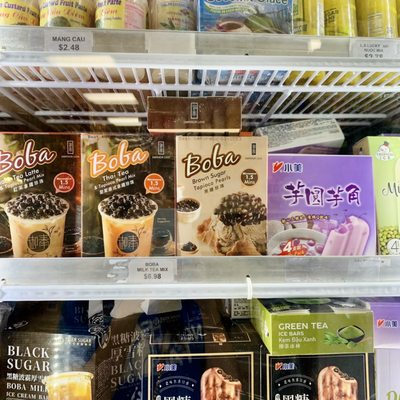burger: (150, 0, 197, 31)
salad: (267, 228, 327, 256)
soup: (3, 191, 70, 259), (4, 192, 69, 258), (97, 193, 158, 259)
sushi: (0, 1, 397, 318)
